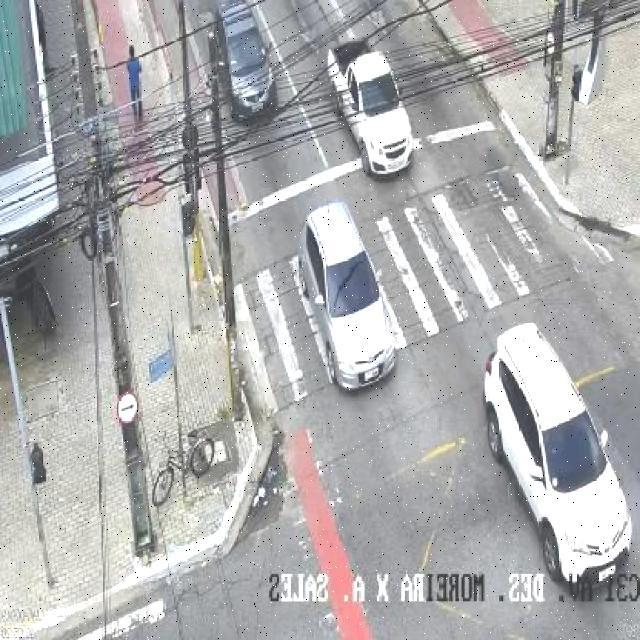Car: (482, 320, 632, 593), (298, 202, 398, 406), (320, 36, 417, 172), (202, 0, 279, 127)
